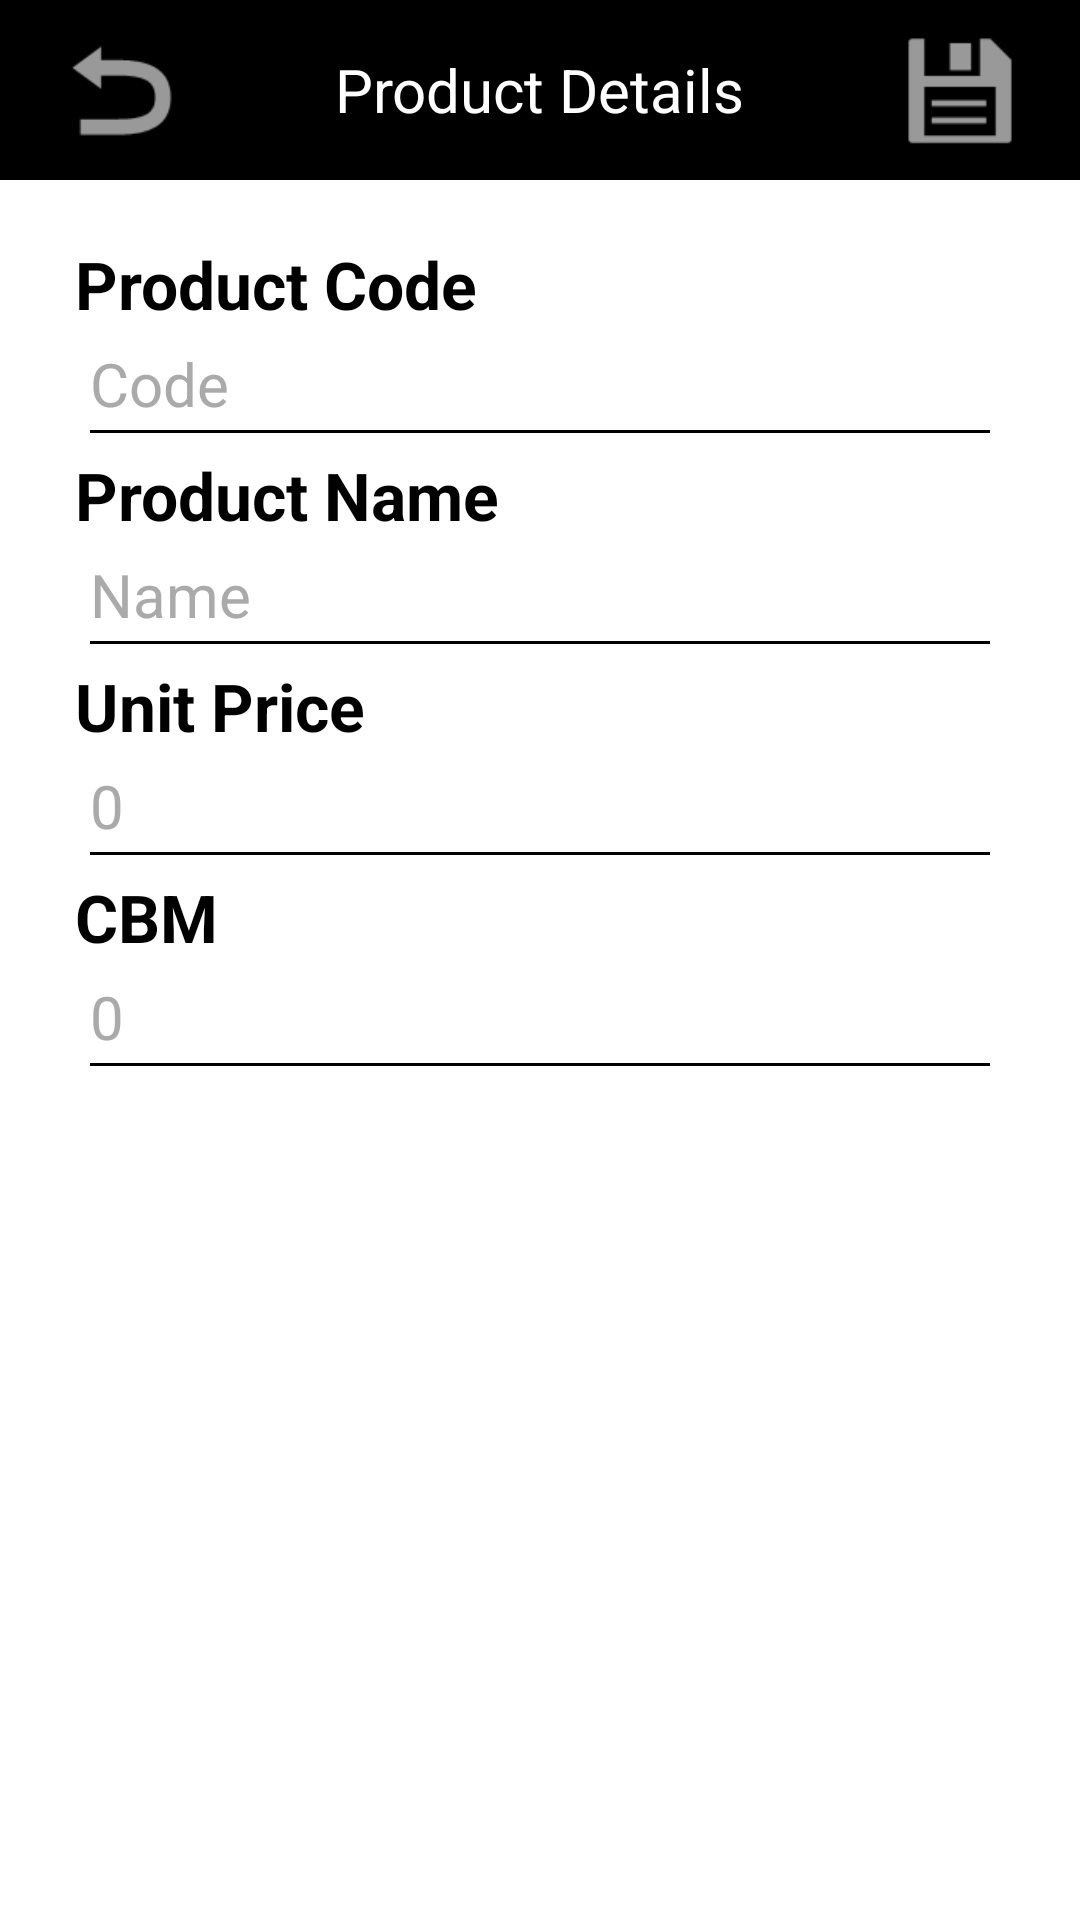

Locate icon controls on the screen. Image size 1080 × 1920, boxes as (x1, y1, x2, y2).
revert: (72, 46, 172, 136)
save: (908, 38, 1012, 144)
